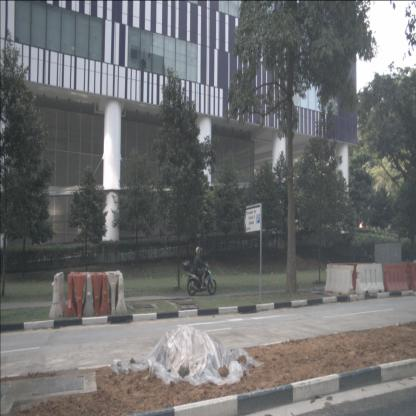movable_object-barrier: (354, 262, 385, 296), (324, 262, 355, 296), (47, 271, 68, 318), (384, 263, 411, 293), (63, 272, 78, 318), (82, 272, 96, 318), (98, 272, 112, 318), (72, 272, 86, 318), (105, 271, 119, 317), (115, 270, 128, 317), (90, 272, 103, 316), (409, 262, 415, 294)
vehicle-motorcycle: (182, 246, 217, 296)
